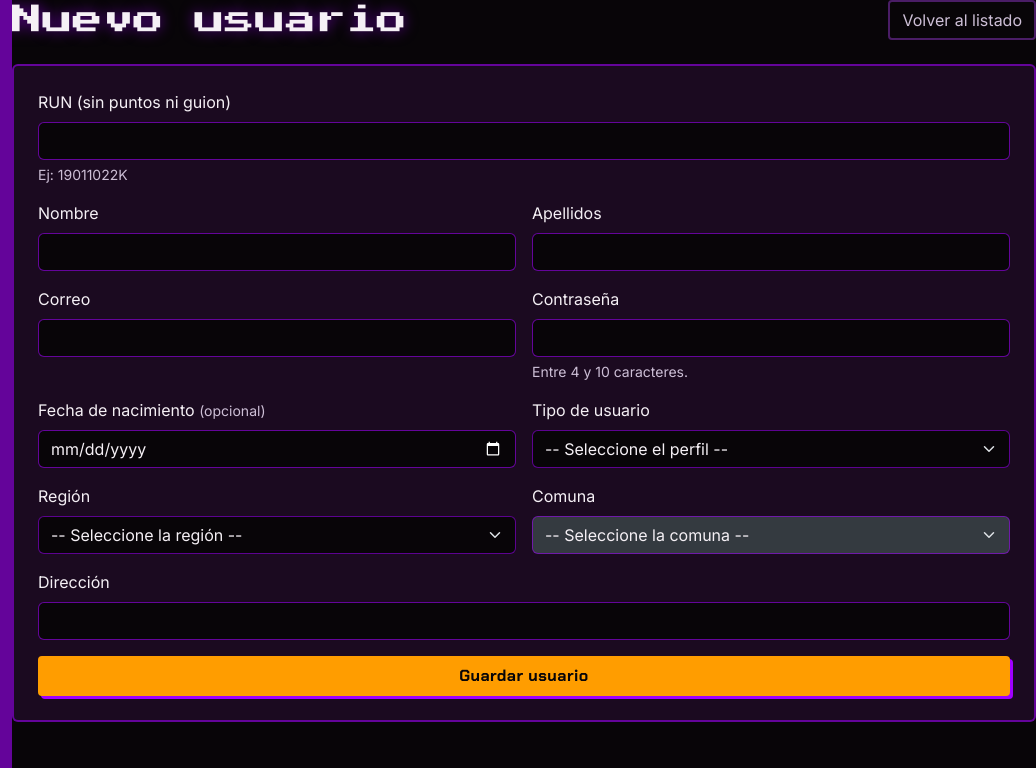
it: Panel admin: Usuarios y órdenes › muestra aviso general si el formulario de usuario tiene errores
The width and height of the screenshot is (1036, 768).
Click the button "Guardar usuario" at (524, 676), box [38, 656, 1010, 696]
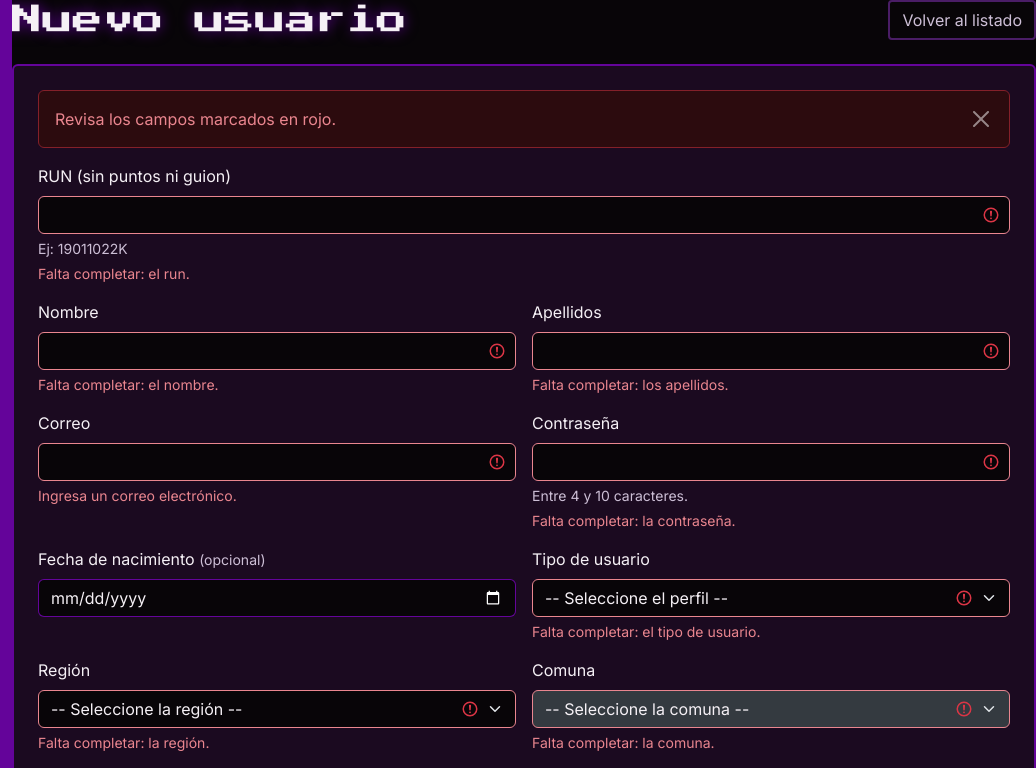
Check: the text "Revisa los campos marcados en rojo." is shown, box [55, 107, 336, 131]
